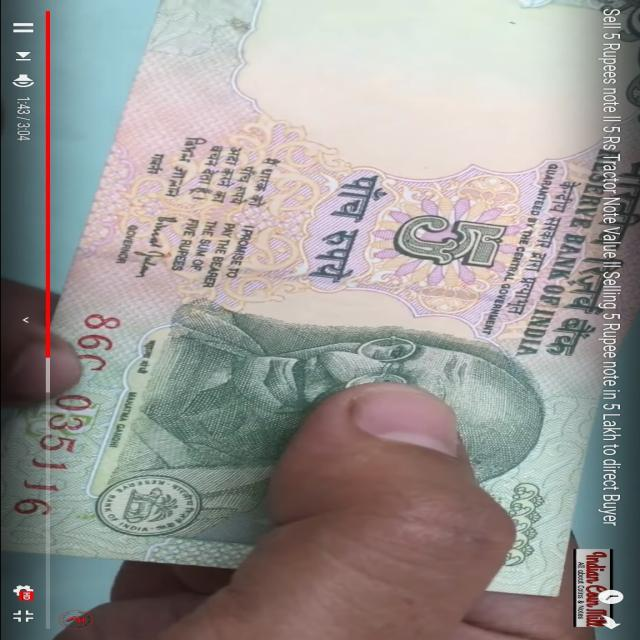5IndianRupees: (57, 0, 626, 576)
